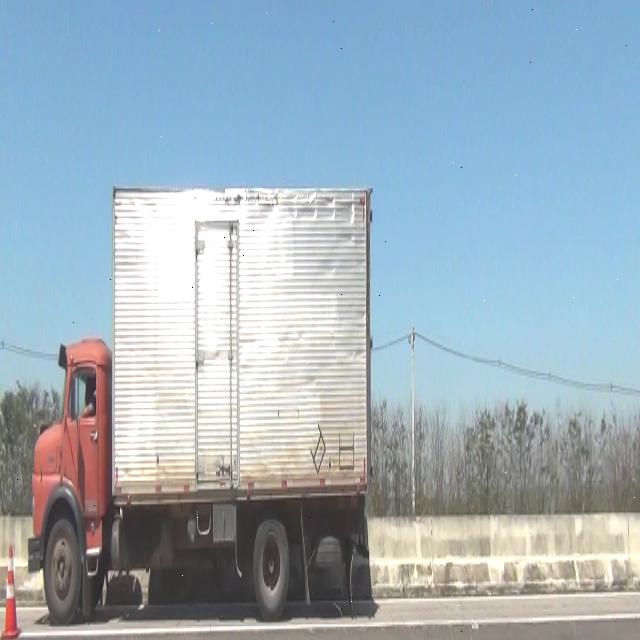-axle: (253, 512, 290, 618), (45, 523, 78, 618)
